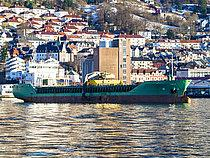Ship: (10, 75, 197, 113)
